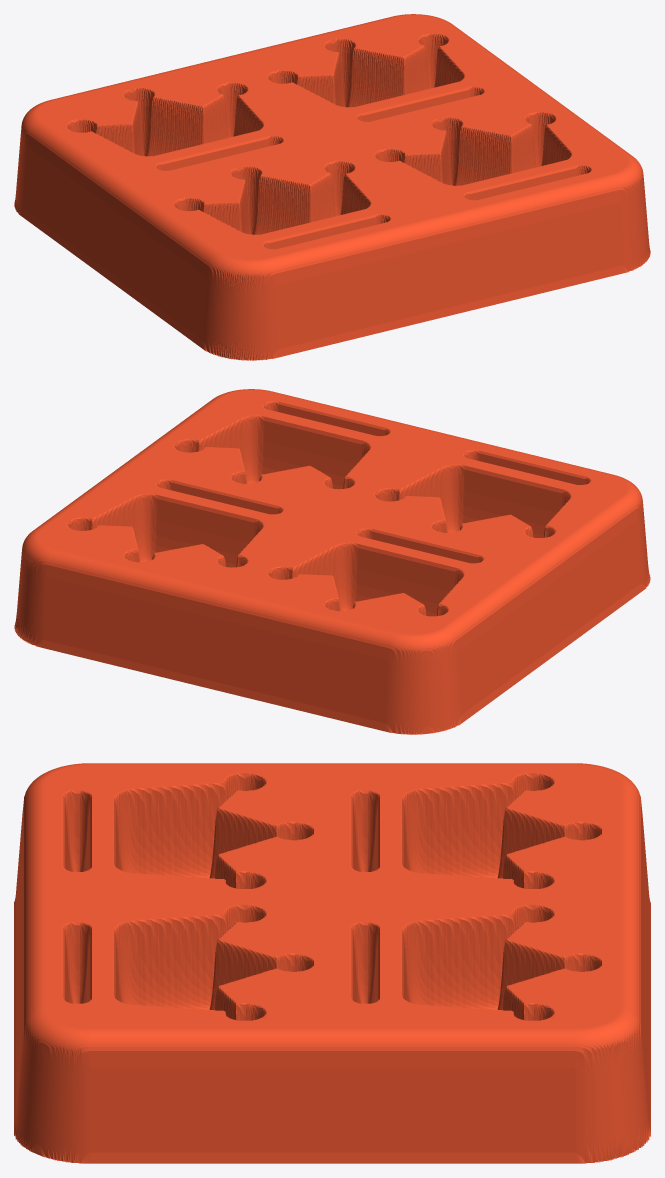
The model's file is mold.glb.
The picture shows the model from 3 angles, top to bottom: view 1: azimuth 30°, elevation 25°; view 2: azimuth 150°, elevation 25°; view 3: azimuth 270°, elevation 25°; orthographic projection. The views are drawn at different scales.
Parts seen in each view (by area): view 1: geometry_0; view 2: geometry_0; view 3: geometry_0.
Part boxes in pixels (box(x1,y1,x2,y2)): geometry_0: box(14, 14, 650, 360); geometry_0: box(14, 389, 650, 734); geometry_0: box(14, 763, 650, 1163).
Bounding box in the file's own units: 0.0808 × 0.0159 × 0.0752.
